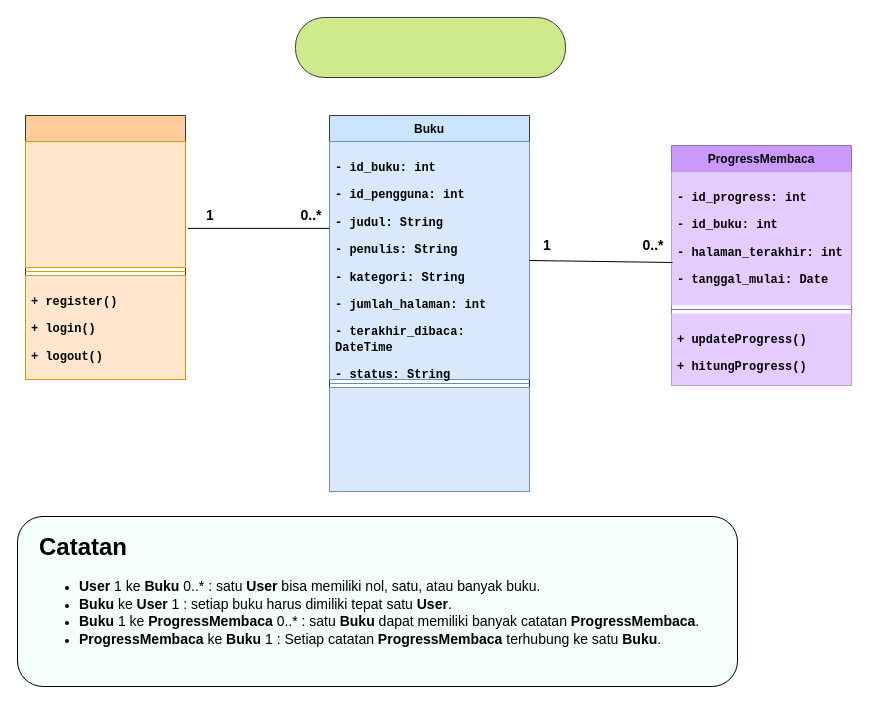
Some shapes in this 869 by 704 pixel diagram are drawn without their labels. The shapes that lost their labels are listed below. From the top down, each one's box as (x1, y1, x2, y2) in pixels, then its label:
(294, 16, 566, 78): CLASS DIAGRAM
(24, 140, 186, 268): - id_pengguna: int - nama: String - email: String - password: String
(24, 114, 186, 380): User
(328, 386, 530, 492): + tambahBuku() + ubahBuku() + hapusBuku()
